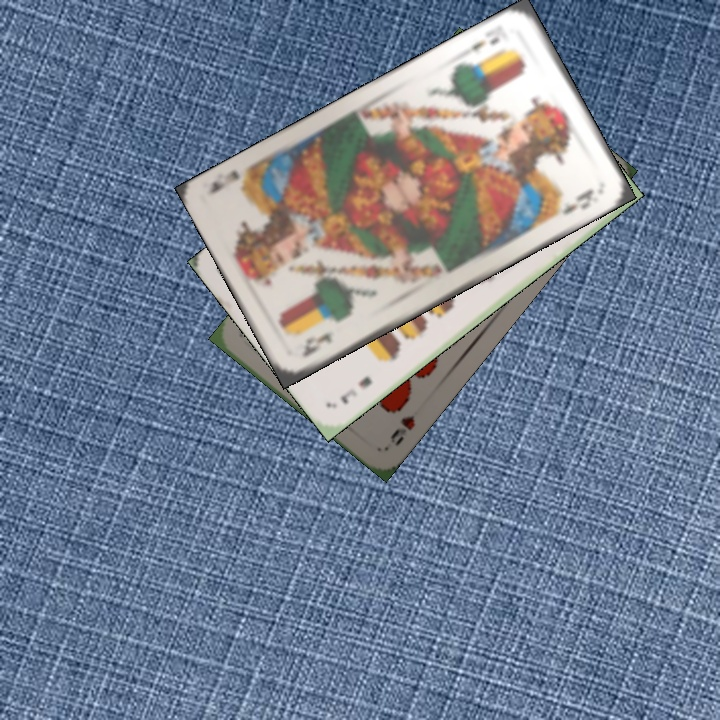E7: (336, 372, 375, 407)
EK: (297, 327, 336, 360), (459, 33, 503, 58)
H9: (386, 411, 418, 449)
